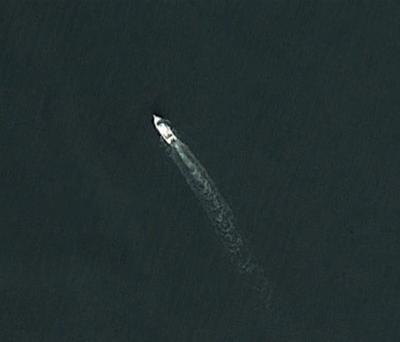Ships: (145, 93, 183, 158)
